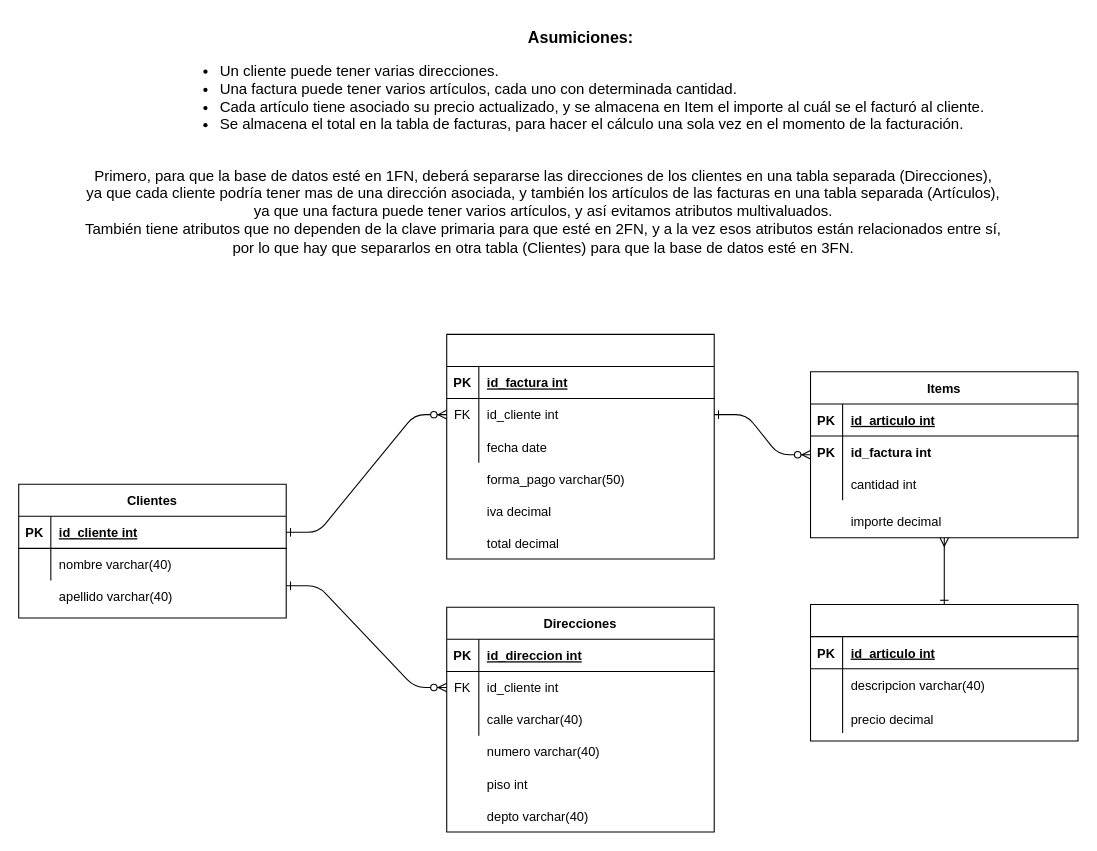
This 1097x851 diagram has some shape labels left out. The box of each missing label's shape, as (x1, y1, x2, y2) in pixels:
Artículos: (809, 603, 1078, 741)
Facturas: (446, 333, 714, 559)
